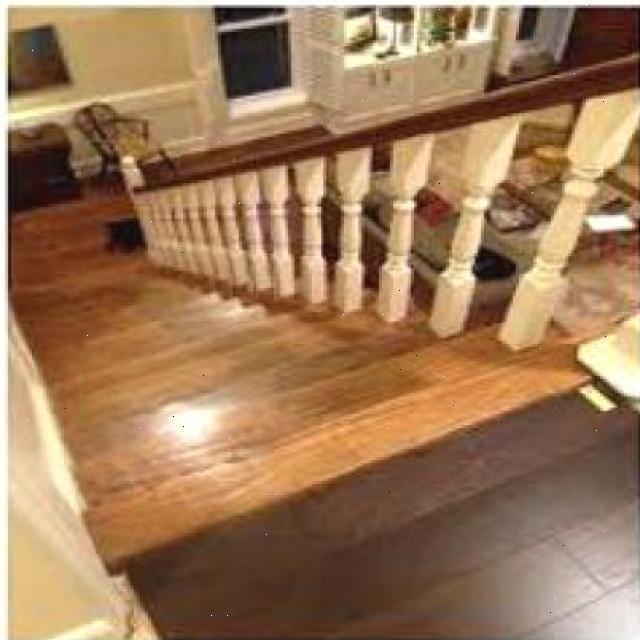stair: (70, 336, 457, 529)
